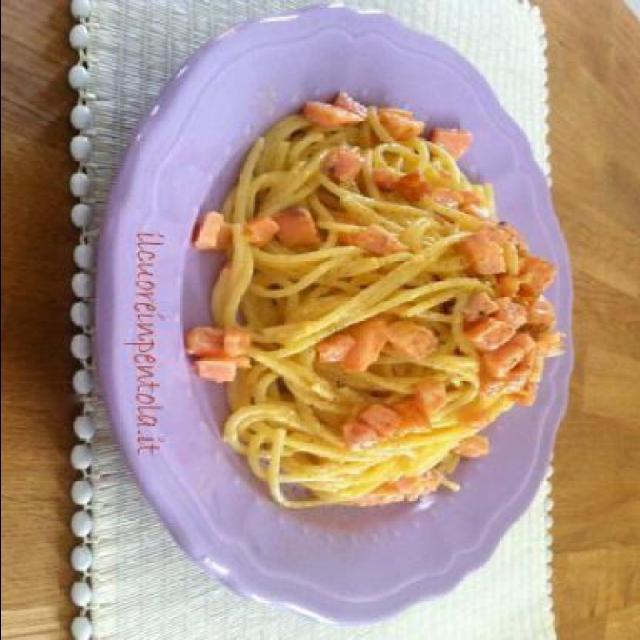Pasta with carbonara sauce: (172, 99, 583, 542)
